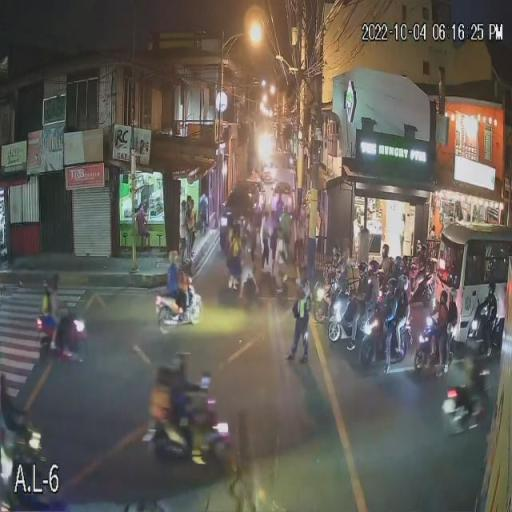helmet: (168, 249, 184, 266), (332, 246, 344, 267), (355, 262, 369, 278), (398, 275, 410, 293), (50, 274, 61, 292), (40, 278, 52, 292), (369, 260, 380, 275), (388, 278, 398, 294), (448, 288, 458, 303), (488, 280, 496, 296), (440, 290, 448, 304), (382, 245, 390, 258)
motorcycle: (360, 309, 414, 365), (328, 292, 385, 342), (36, 312, 92, 362), (155, 278, 203, 336), (414, 314, 456, 372), (313, 283, 346, 324)
rider: (347, 276, 368, 350), (166, 265, 191, 326), (50, 291, 72, 360), (430, 304, 448, 378), (382, 294, 398, 375), (476, 295, 496, 357), (358, 276, 379, 327), (42, 293, 58, 350), (445, 303, 458, 372), (396, 290, 410, 352), (326, 264, 344, 297)
